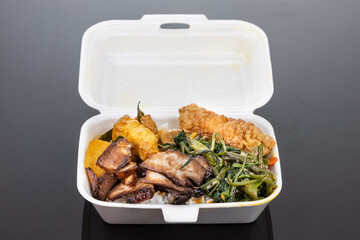styrofoam: (76, 12, 284, 227)
